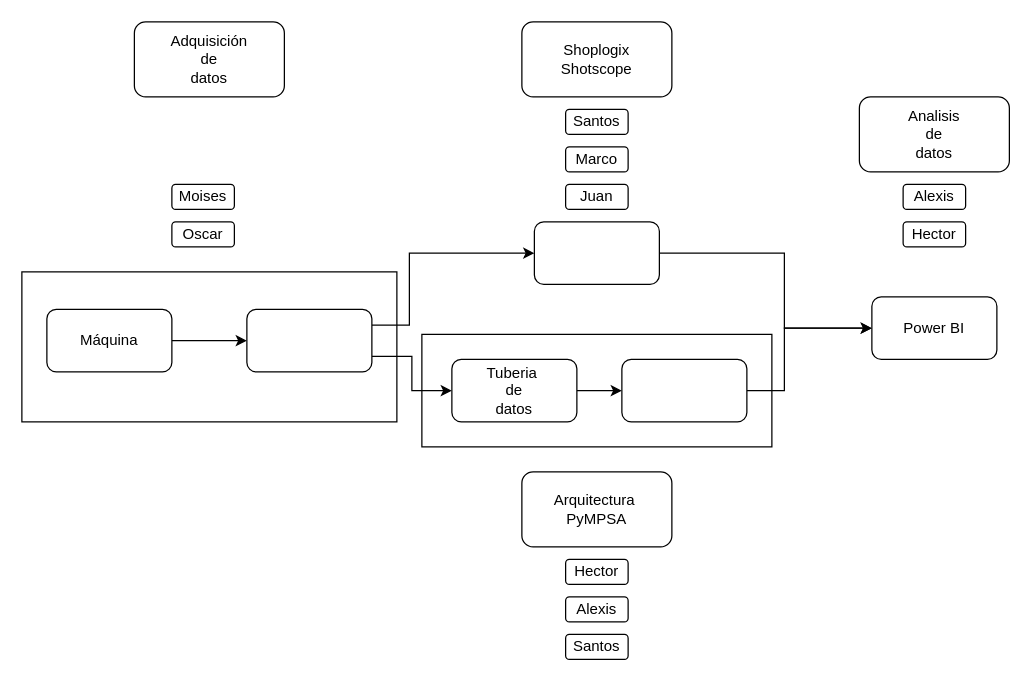
The diagram is 1031 pixels wide and 681 high, and some of its shapes have lost their labels. Each missing label, with the centre of its shape:
GCP: (684,390)
Kepserver: (309,340)
Software Proveedor: (596,252)
